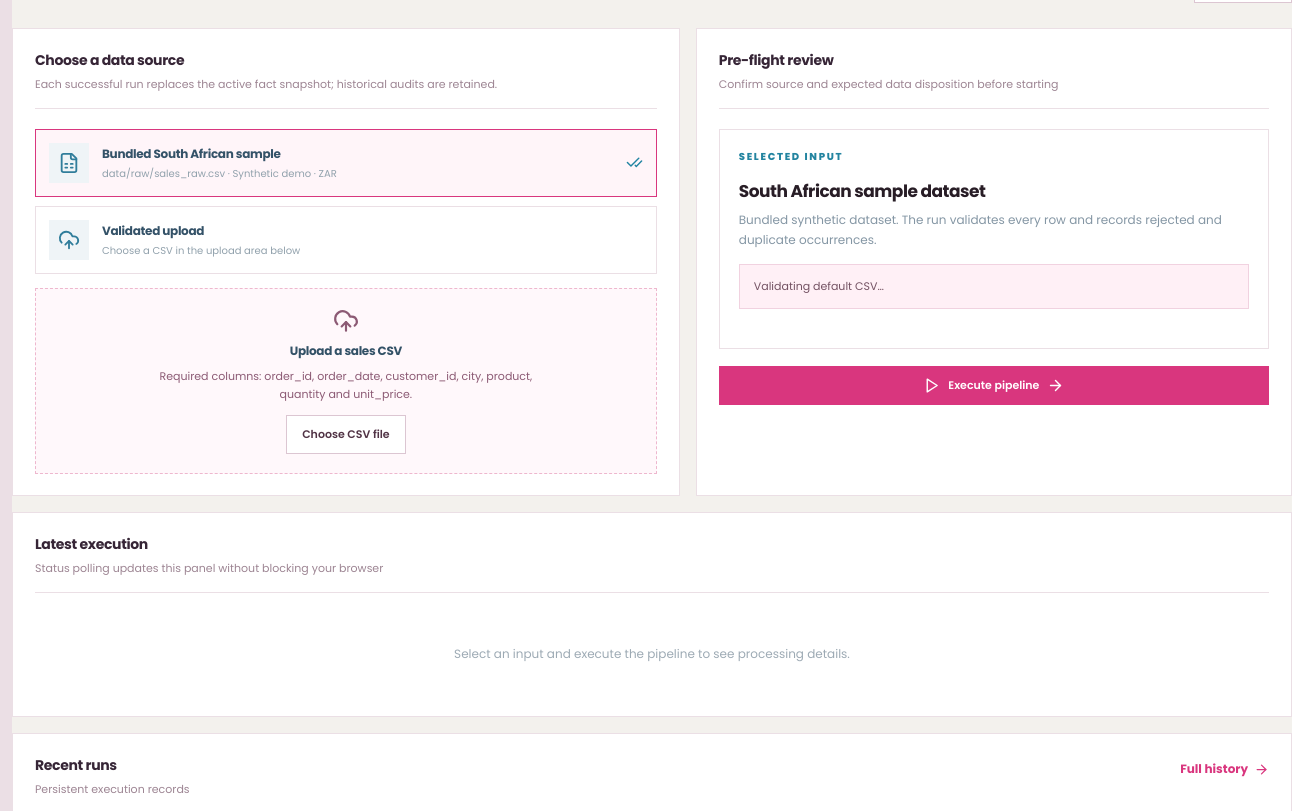
Pipeline control › starts a pipeline and shows its completed counts
This screenshot has width=1292, height=811.
Click the button "Execute pipeline": [994, 386] box top-left (719, 366), bottom-right (1269, 405)
(page scrolled)
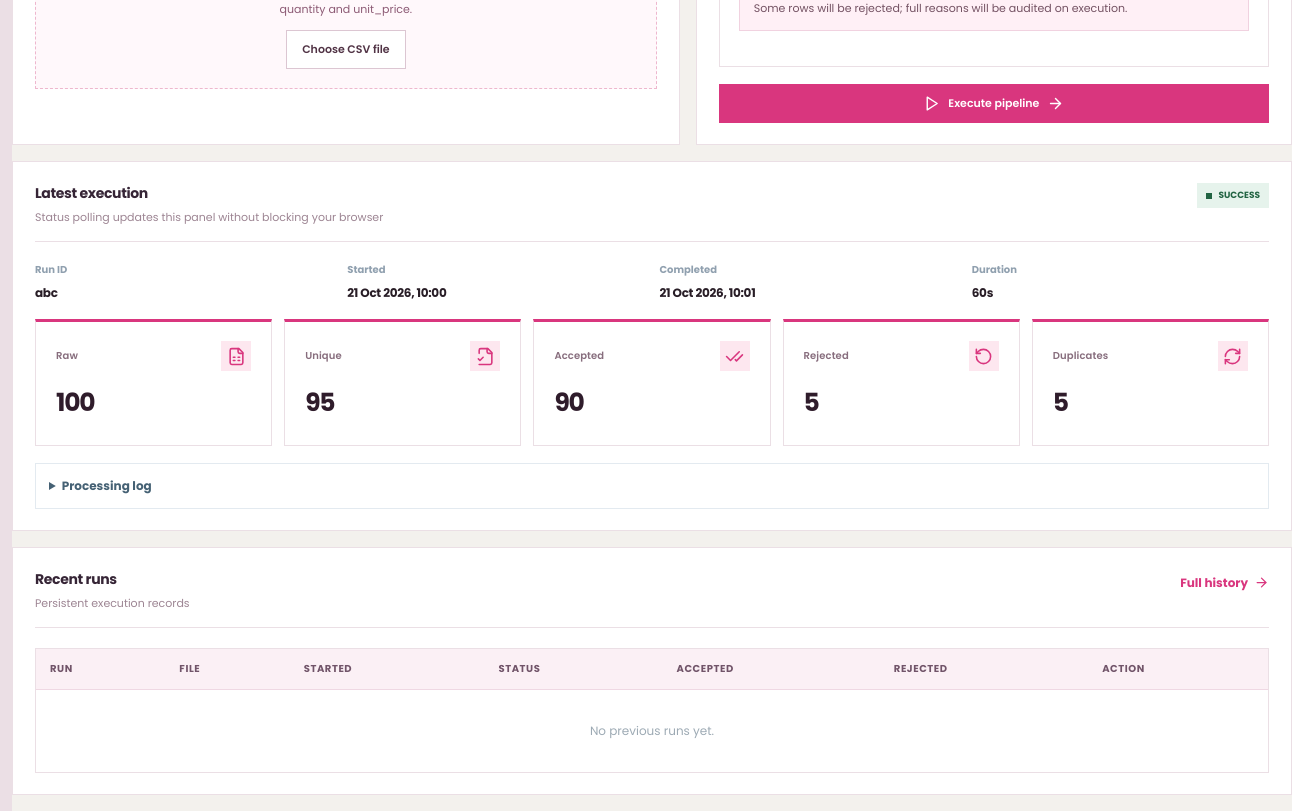
Expected: the heading "Processing log" is shown, top-left (62, 477), bottom-right (152, 494)
